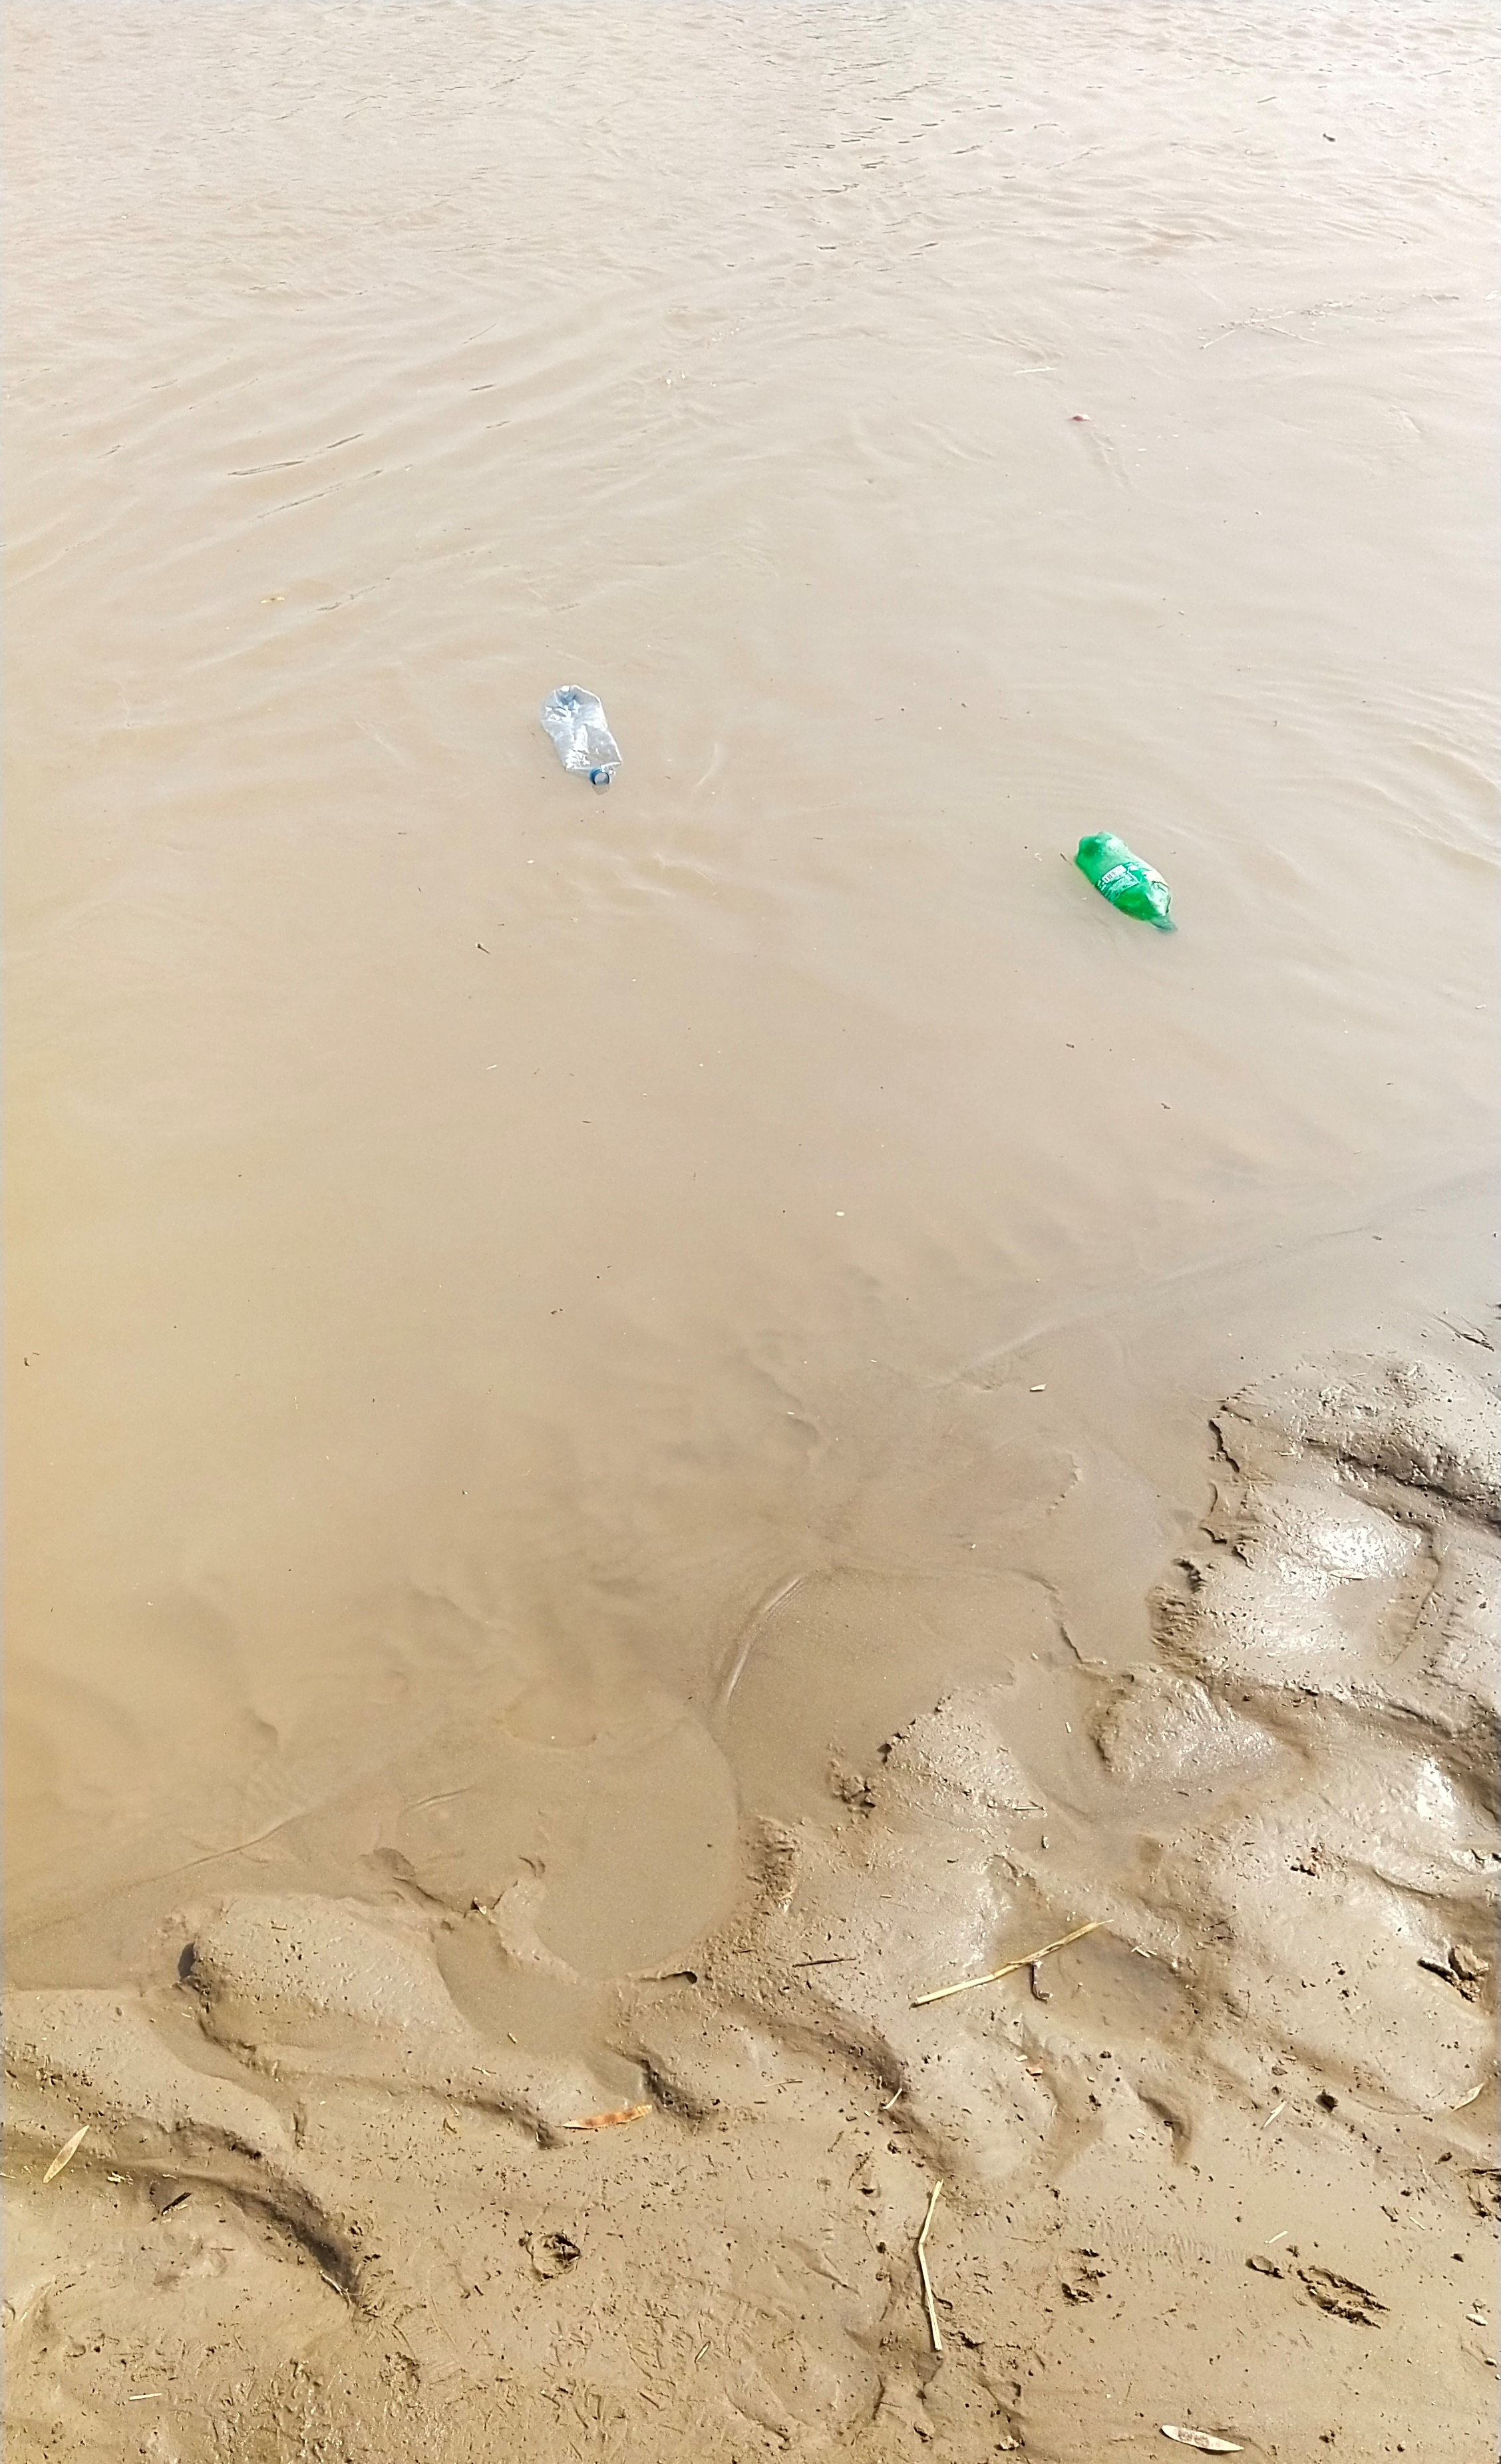Plastic Bottle: (1075, 831, 1175, 933), (540, 685, 623, 787)
